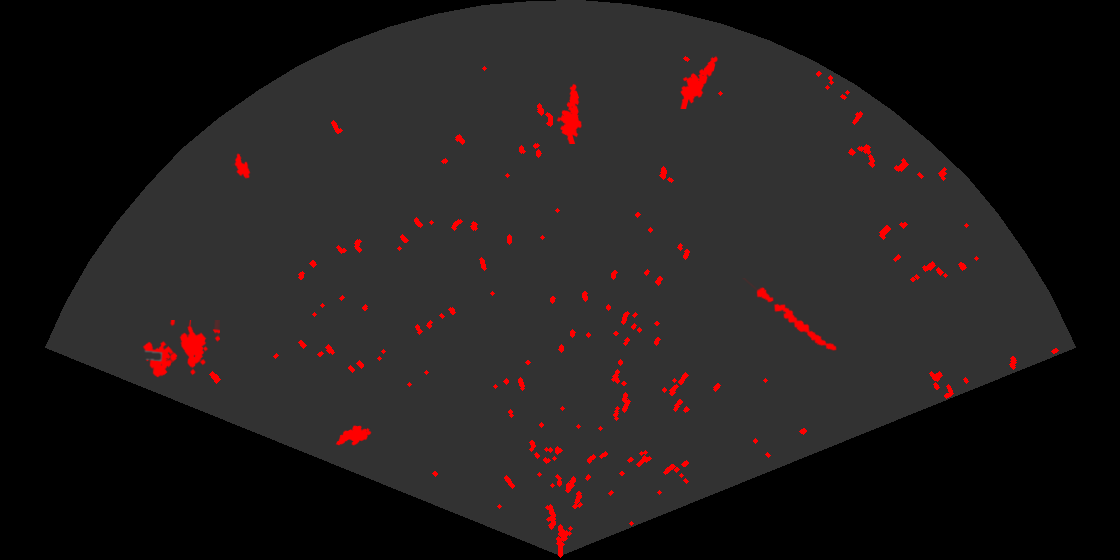AUV: (334, 424, 373, 447), (231, 152, 252, 180)
cage: (141, 320, 220, 379)
chain: (742, 278, 838, 352)
frogman: (679, 54, 719, 109), (555, 82, 583, 144)
